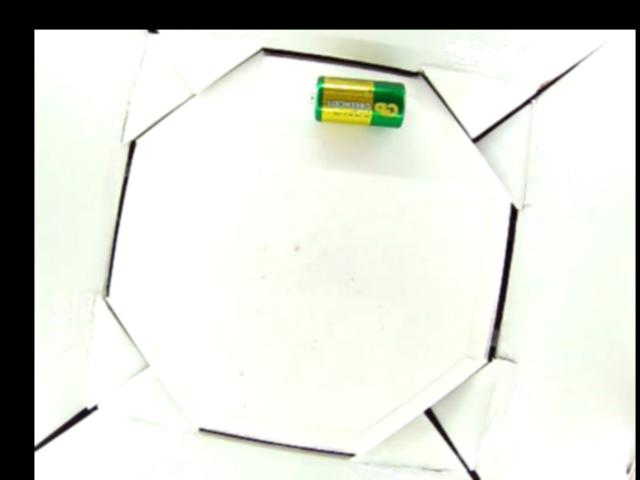Battery: (309, 74, 410, 129)
